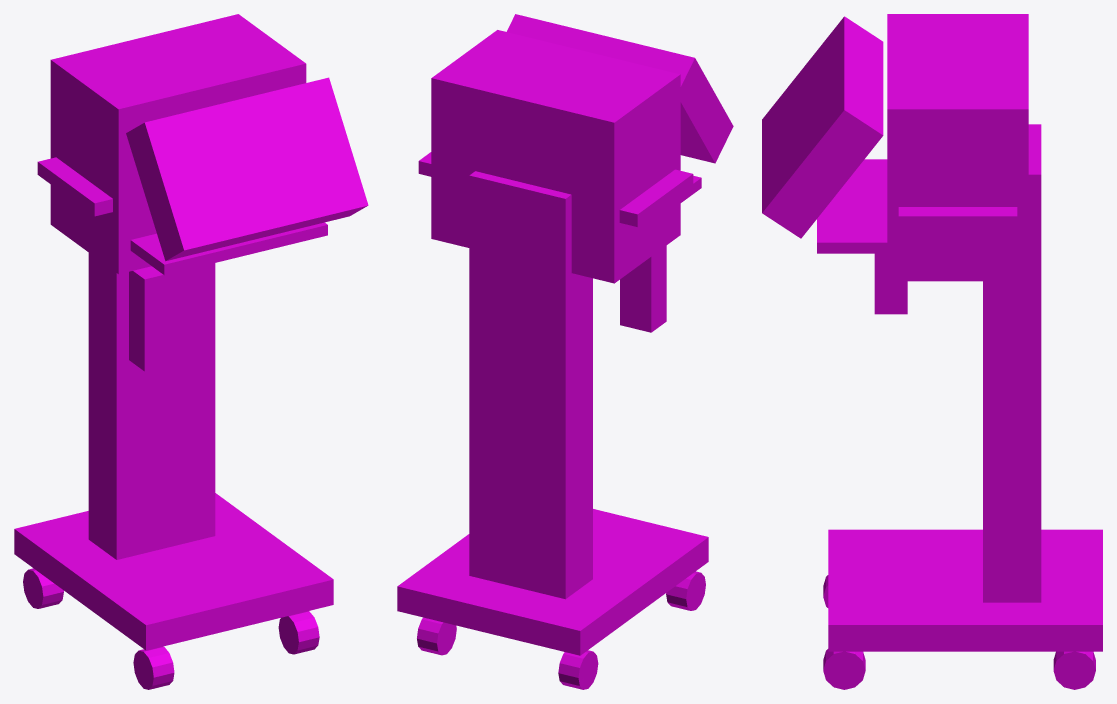
Rendered from SM_MachineACollider.fbx.
3 views of the same model, side by side, from view 1: azimuth 30°, elevation 25°; view 2: azimuth 150°, elevation 25°; view 3: azimuth 270°, elevation 25° (orthographic). The views are drawn at different scales.
Visible parts, largest first — view 1: MachineACollision; view 2: MachineACollision; view 3: MachineACollision.
Boxes of the visible parts, x1=… form: MachineACollision: x1=14, y1=14, x2=368, y2=689; MachineACollision: x1=397, y1=14, x2=733, y2=689; MachineACollision: x1=762, y1=14, x2=1102, y2=689.
Size of the model in its own units: 56.01 by 135 by 70.59.
